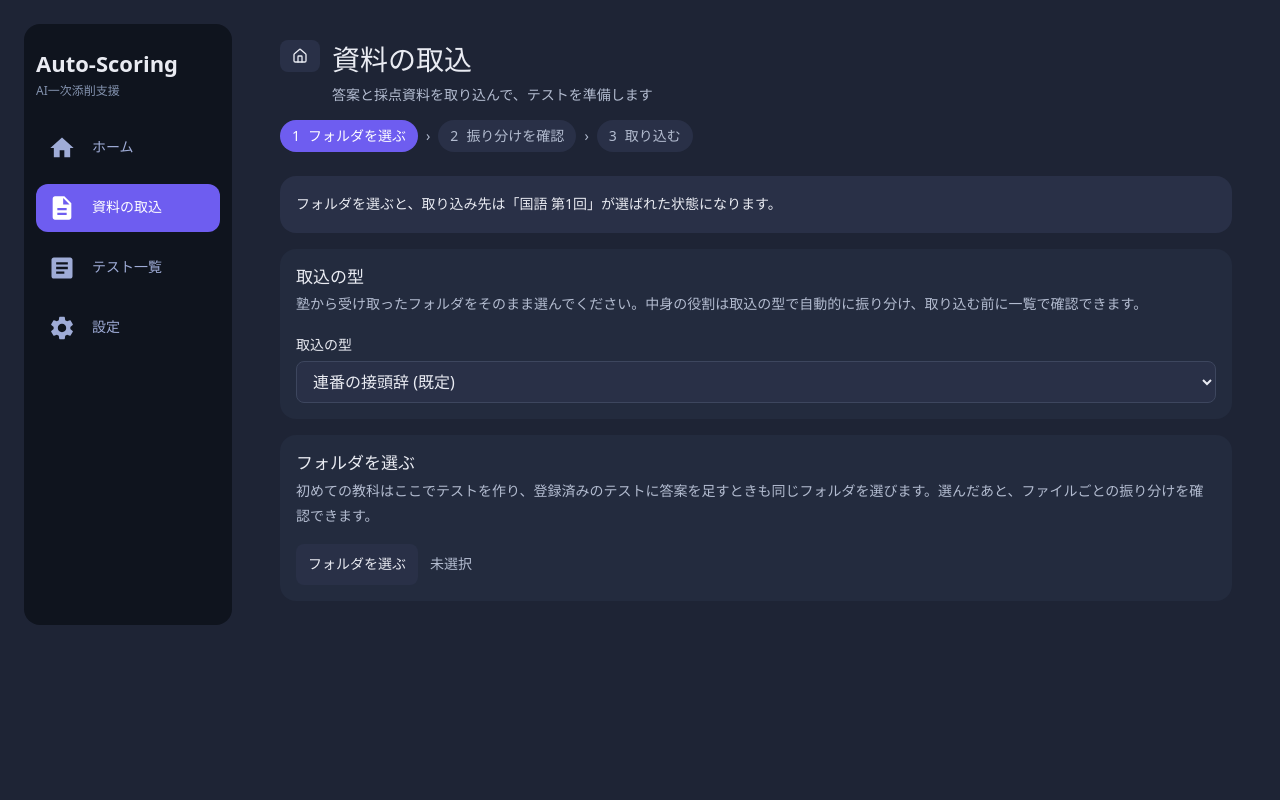
IntakePage target preselection (Issue #414) › applies the specified test when there is no session to restore
Expected: the dropdown with test id "intake-template-picker" is shown, [296,362,1216,404]
Click the button with test id "intake-choose-folder" at (357, 565), box [296,544,418,585]
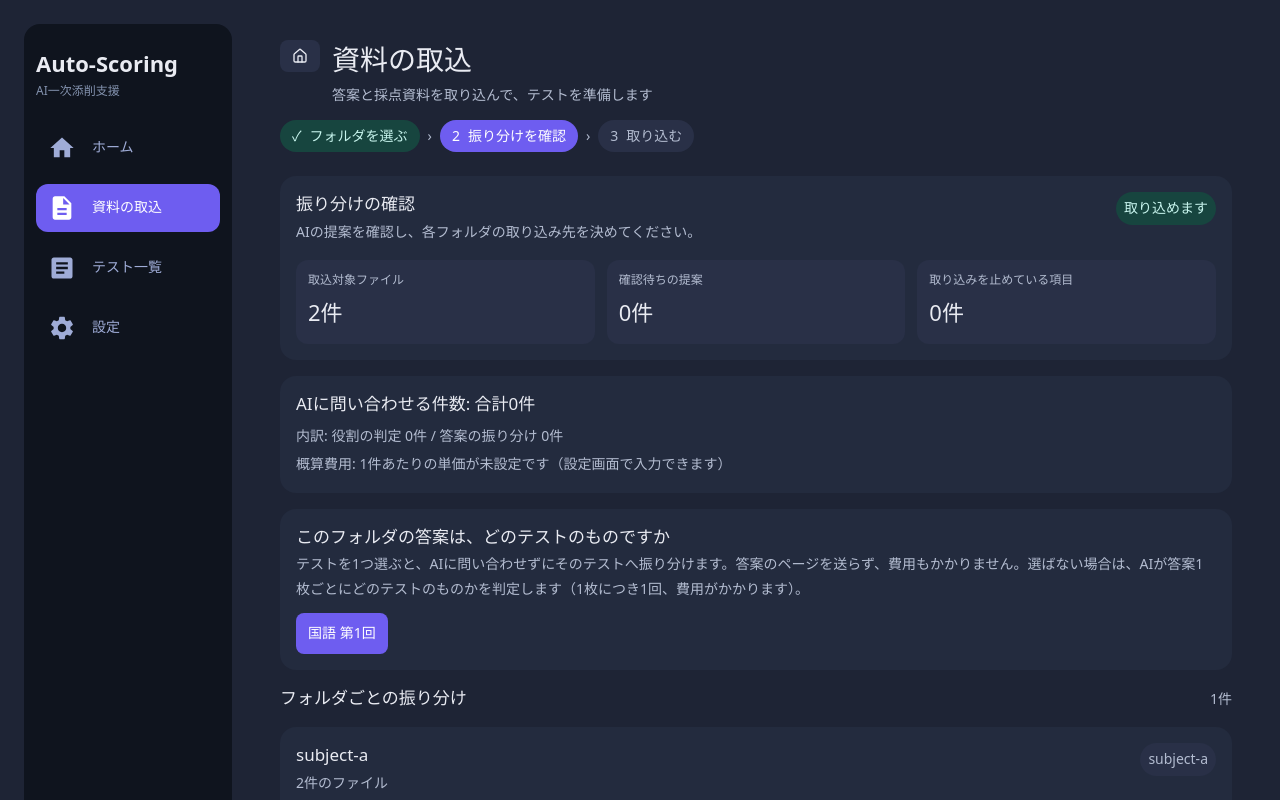
Result: the element with test id "intake-review-summary" is shown at [280,176,1232,360]
